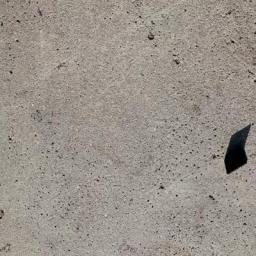FOD: (223, 124, 253, 177)
